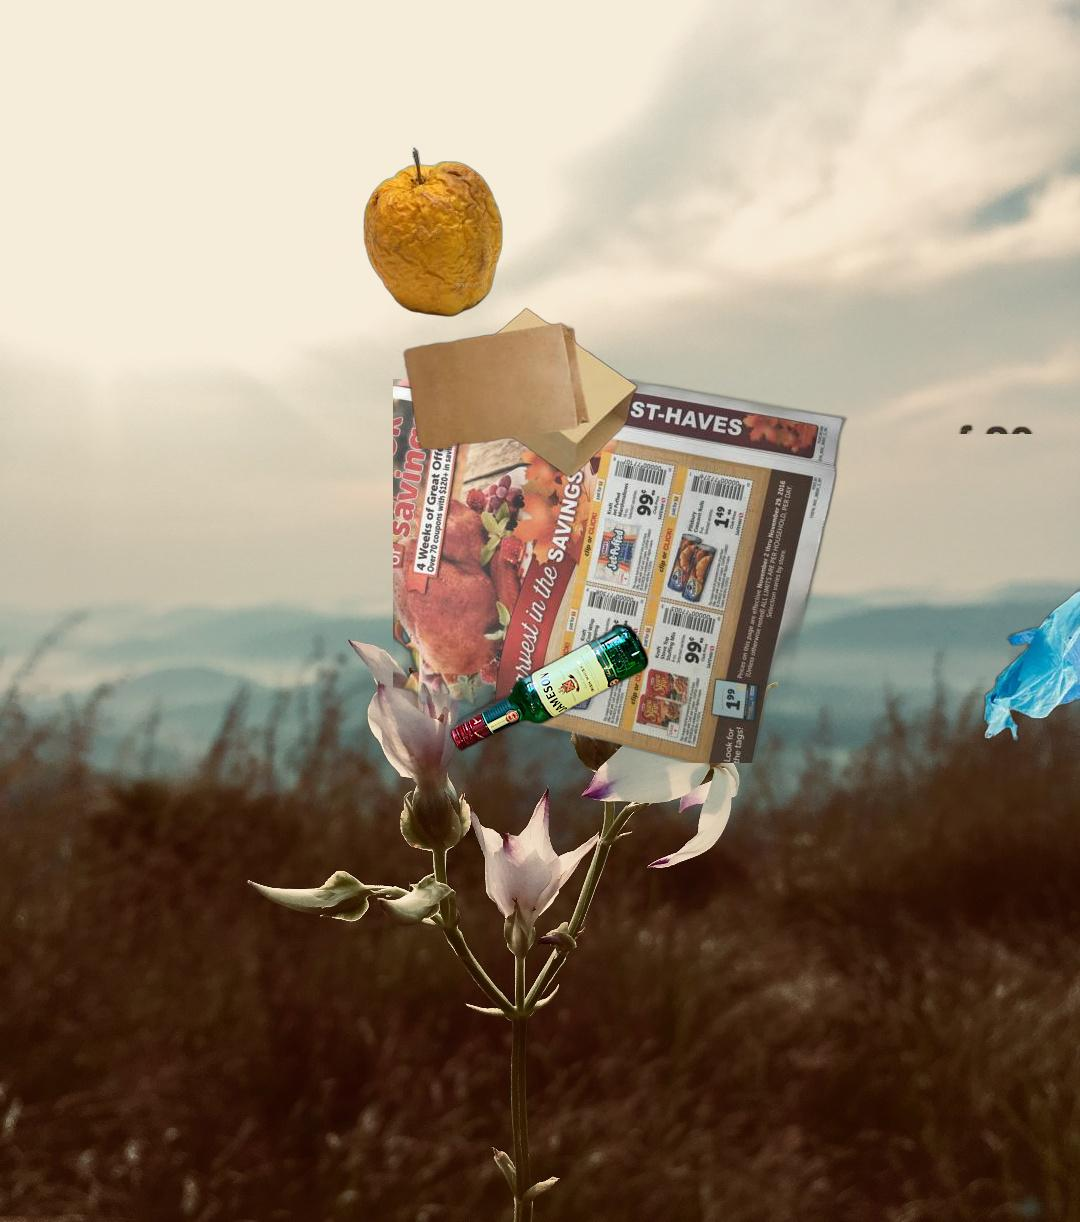biological: (361, 143, 505, 319)
glass: (446, 618, 653, 756)
paper: (393, 378, 849, 763)
paper-bag: (387, 305, 640, 480)
plastic-bag: (981, 572, 1080, 746)
trashbox-cardboard: (649, 50, 1080, 434)
